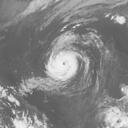cyclone: (43, 47, 87, 85)
